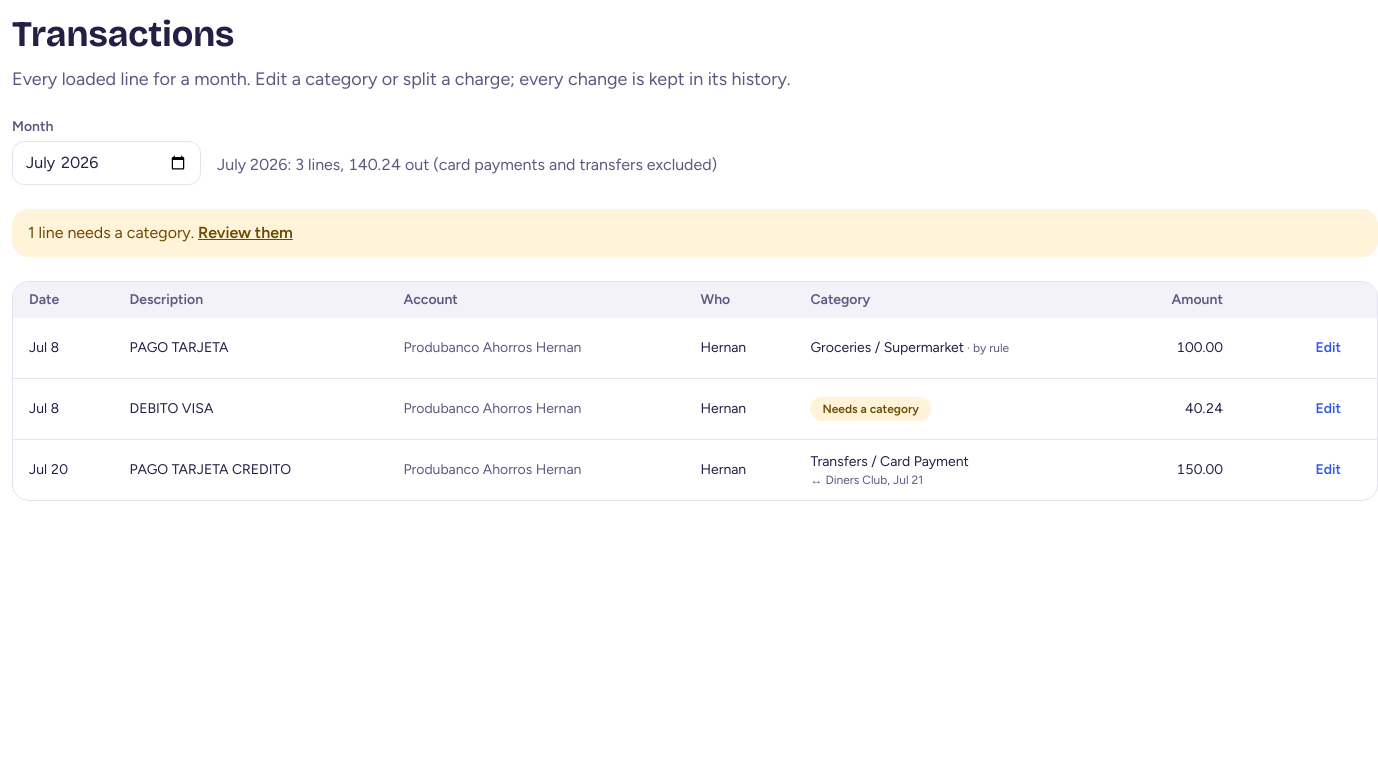
Scenario: Transactions editing › edits a category with undo, and points to Review
Check: the text "1 line needs a category. Review them" is shown, box [12, 209, 1377, 257]
Check: the text "· by rule" is shown, box [964, 341, 1009, 355]
Step 1. Click the button with aria-label "Edit DEBITO VISA" → x=1328, y=409, box [1296, 387, 1361, 431]
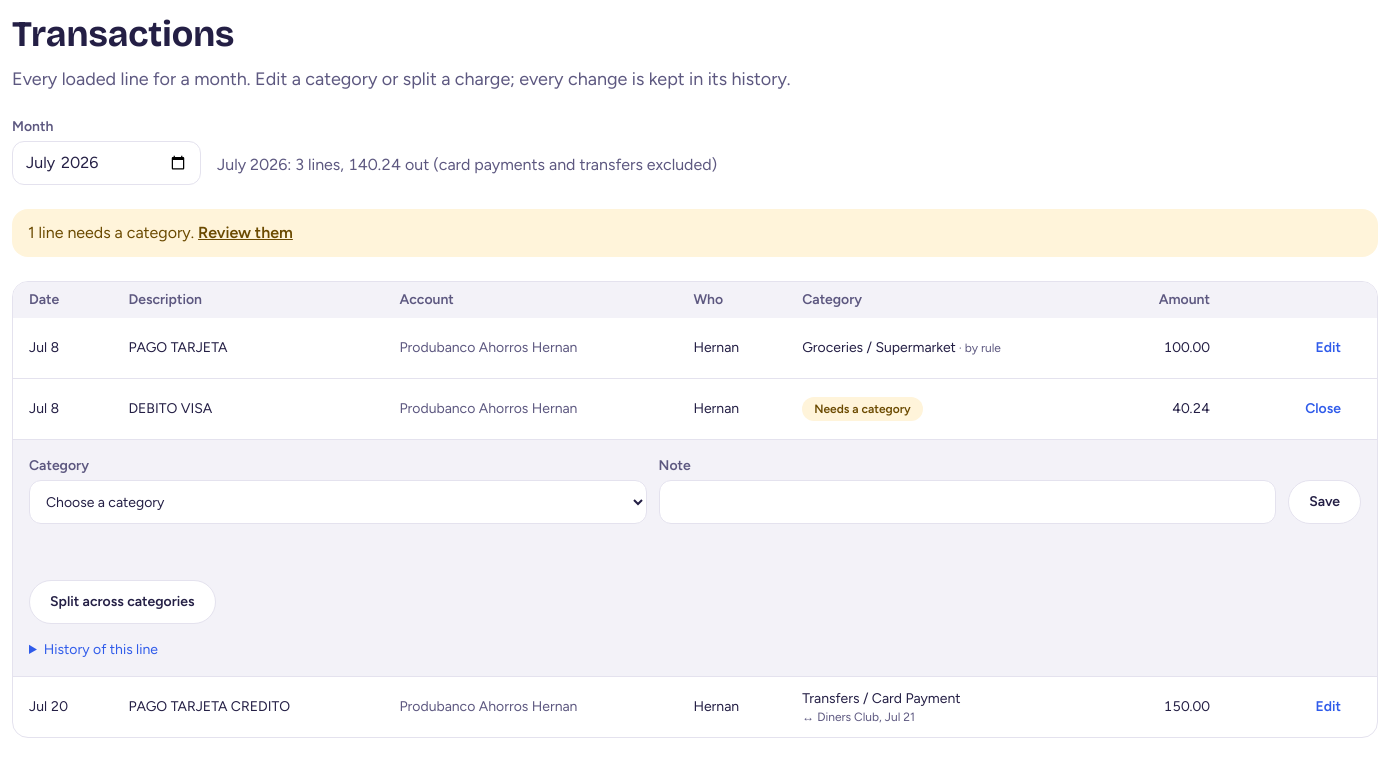
Step 2. Select "Groceries / Supermarket" in the dropdown labelled "Category" → x=338, y=502, box [29, 480, 647, 524]
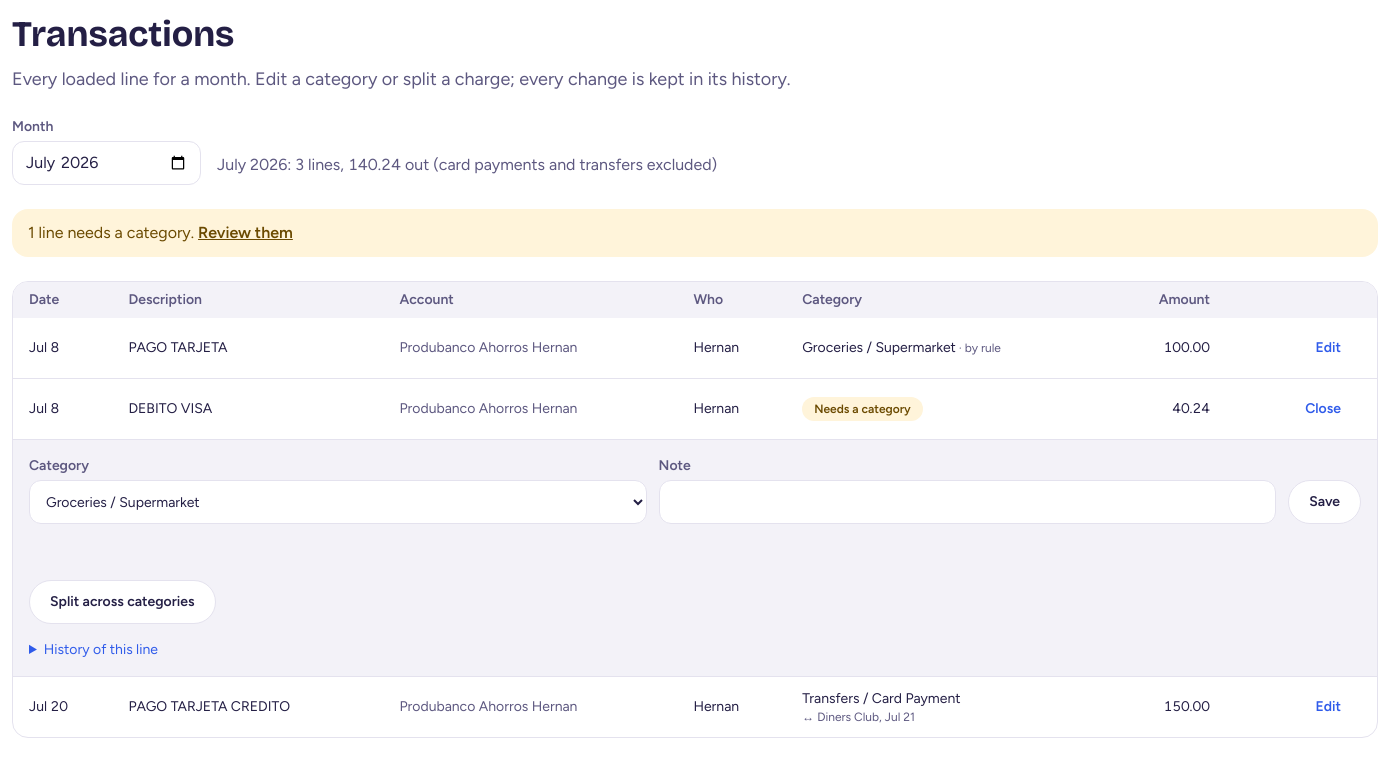
Step 3. Click the button "Save" → x=1325, y=502, box [1288, 480, 1361, 524]
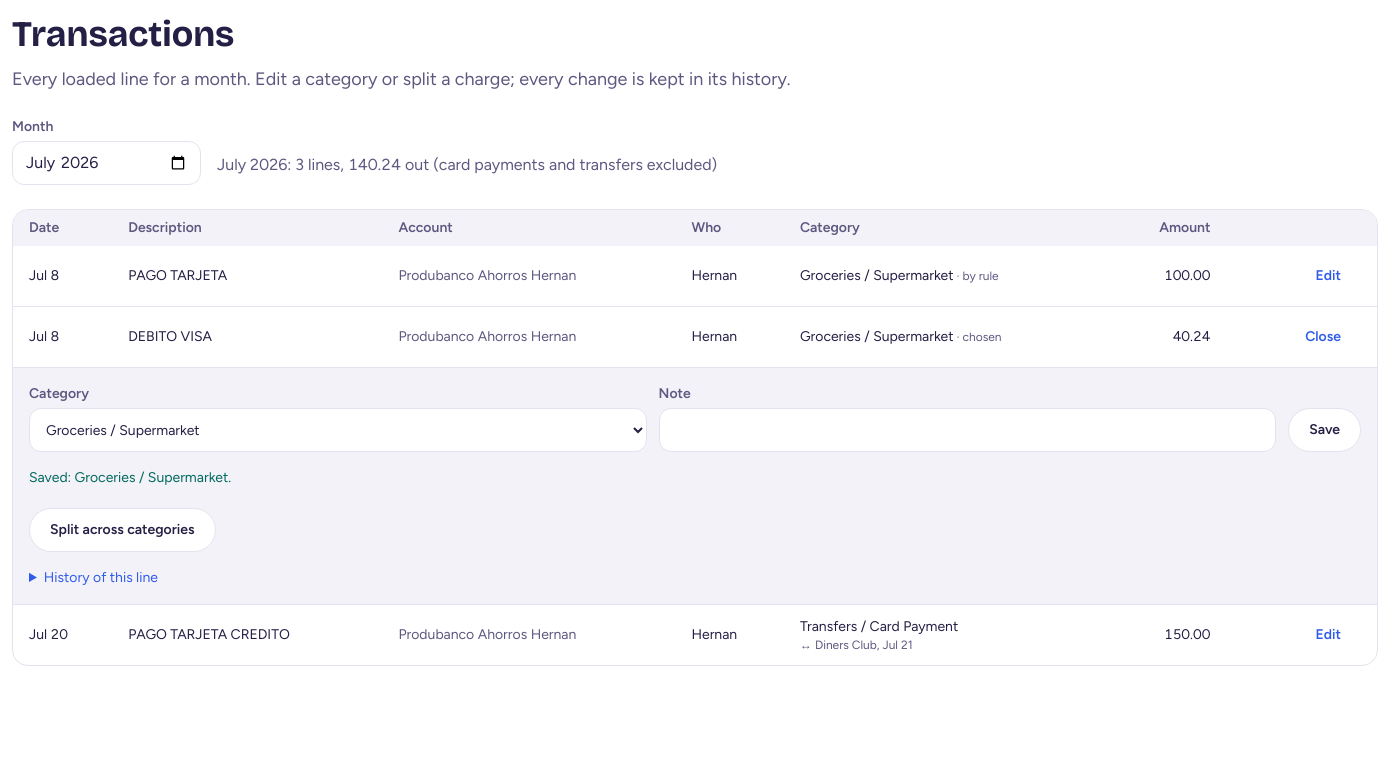
Check: the text "Saved: Groceries / Supermarket." is shown, box [29, 469, 231, 486]
